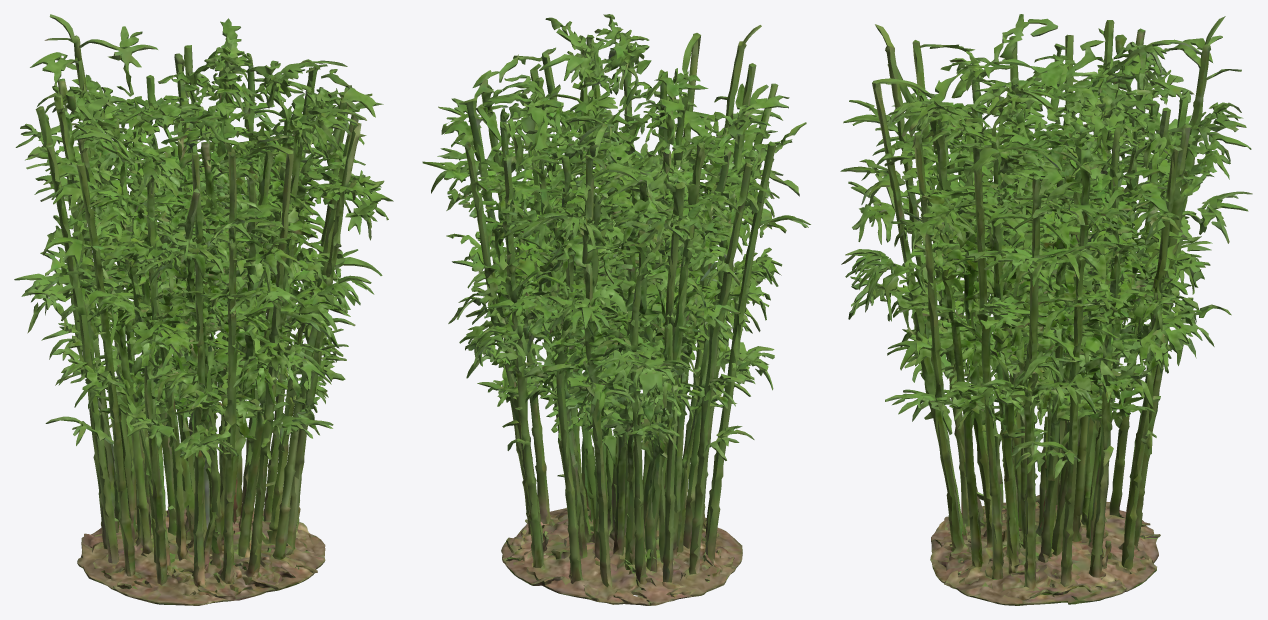
File: bamboo-cluster.glb
3 renders of one model, left to right at view 1: azimuth 30°, elevation 25°; view 2: azimuth 150°, elevation 25°; view 3: azimuth 270°, elevation 25°, orthographic. The views are drawn at different scales.
Parts seen in each view (by area): view 1: geometry_0; view 2: geometry_0; view 3: geometry_0.
Part boxes in pixels (x1,y1,x2,y2): geometry_0: (14, 14, 393, 605); geometry_0: (422, 14, 810, 605); geometry_0: (840, 14, 1252, 605).
Bounding box in the file's own units: 1.85 × 2.5 × 1.84.
1 material, 1 textured.
